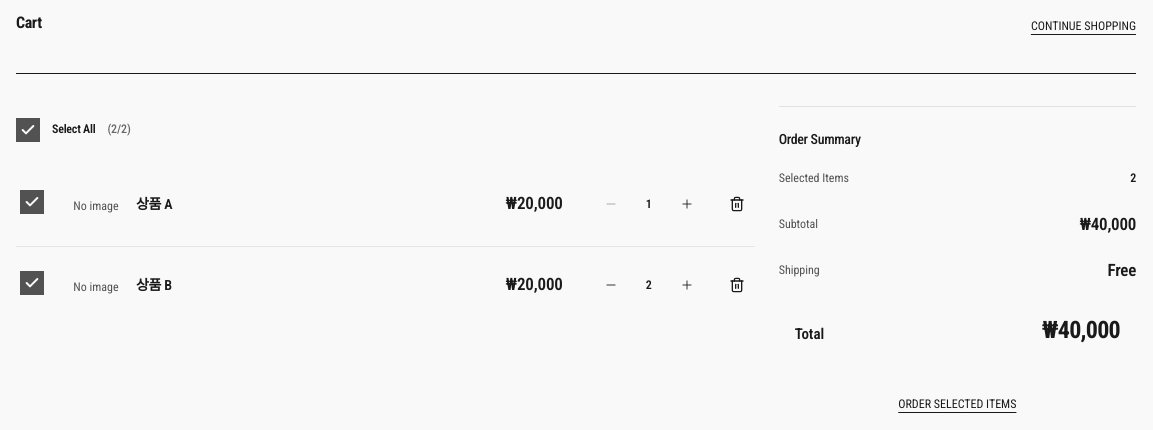
it: CartPage › calculates selected total for checked items
// first is "전체 선택", then one per item
Click the checkbox named "Select 상품 B". click: (32, 283)
box: [20,271,44,295]
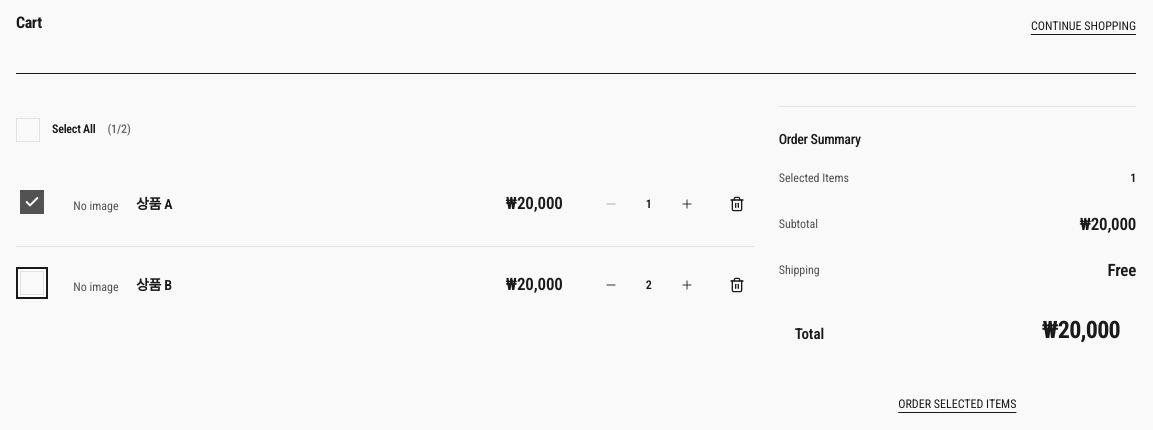
Expected: the text "₩20,000" in the row of "Subtotal" is shown, [1079,214,1136,234]
